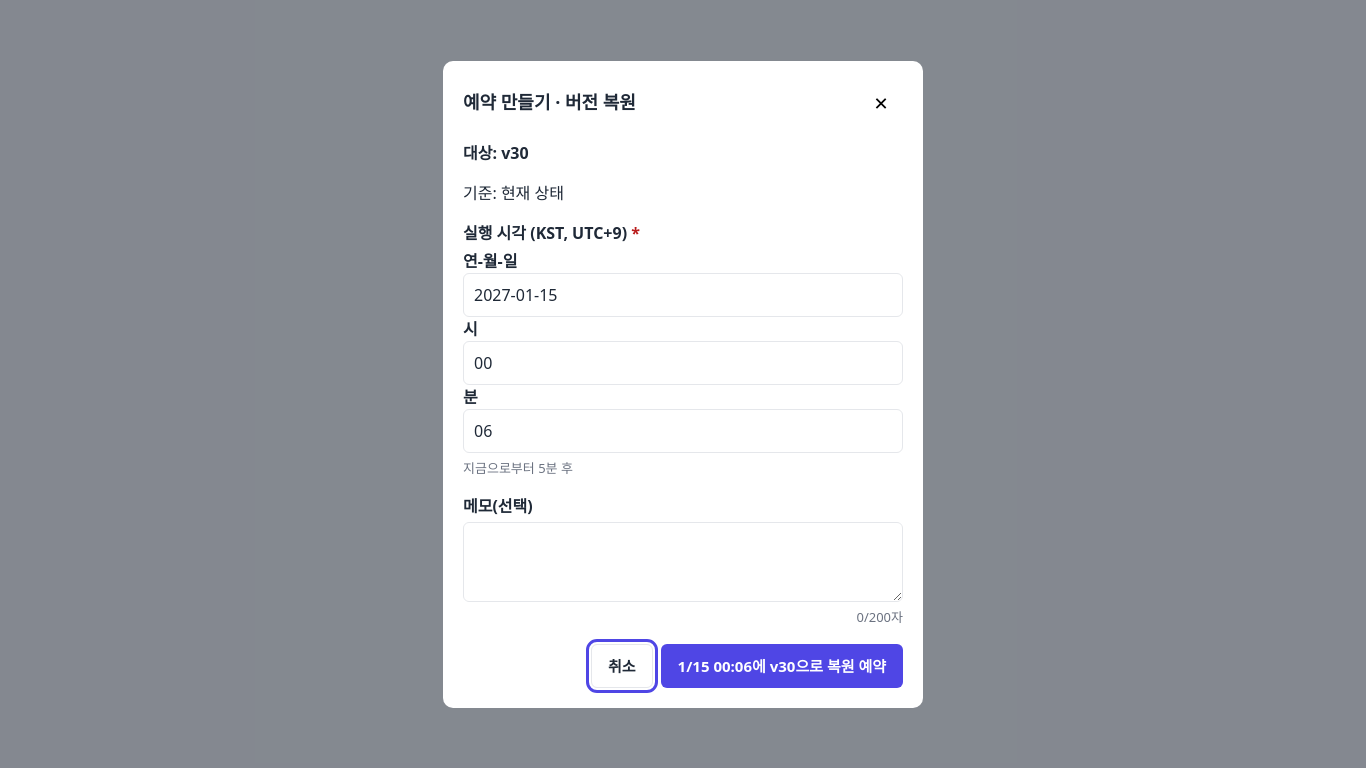
ScheduleDeployDialog › 한도 초과(409 DEPLOY_SCHEDULE_LIMIT_EXCEEDED) — 생성 실패 시 오류 배너가 뜨고 다이얼로그는 닫히지 않는다
Click the button "1/15 00:06에 v30으로 복원 예약" at (782, 666), box top-left (661, 644), bottom-right (903, 688)
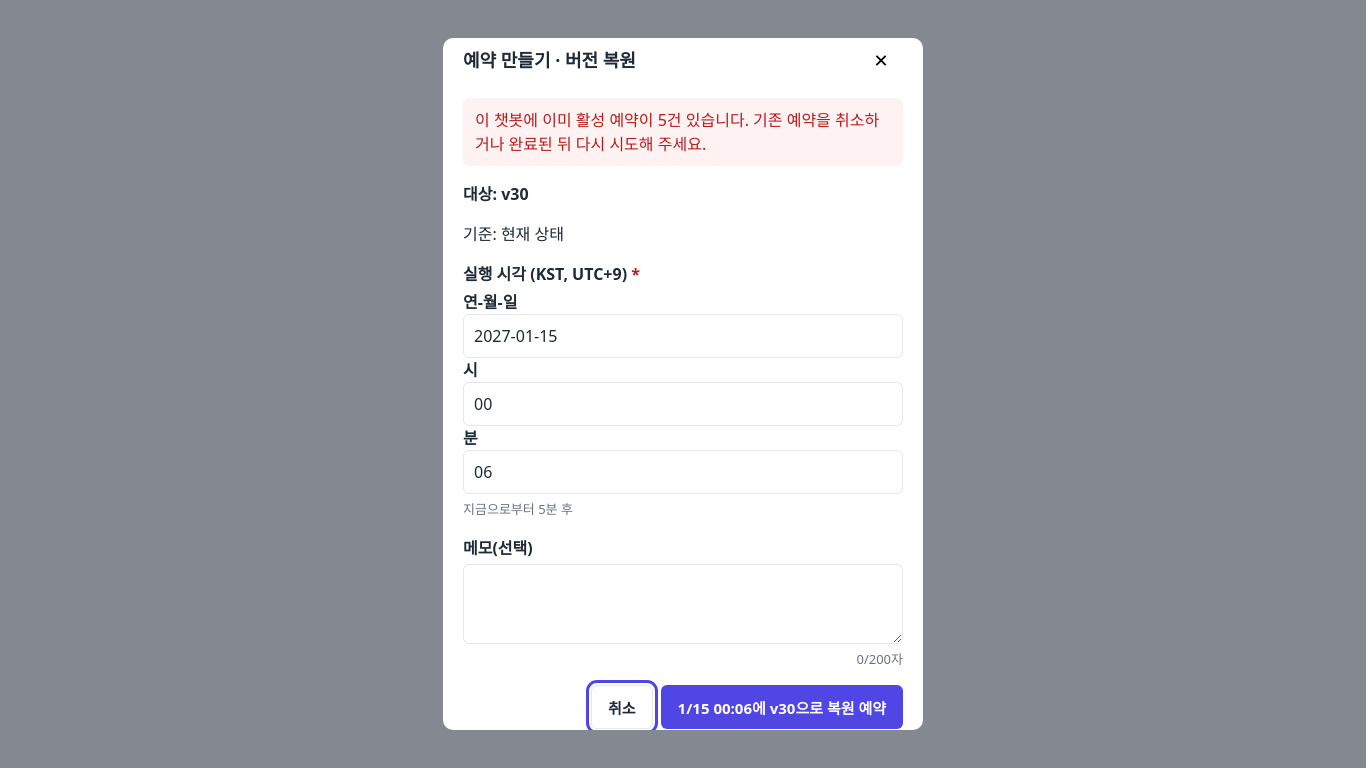
Expected: the text "이 챗봇에 이미 활성 예약이 5건 있습니다. 기존 예약을 취소하거나 완료된 뒤 다시 시도해 주세요." is shown, top-left (463, 98), bottom-right (903, 166)
